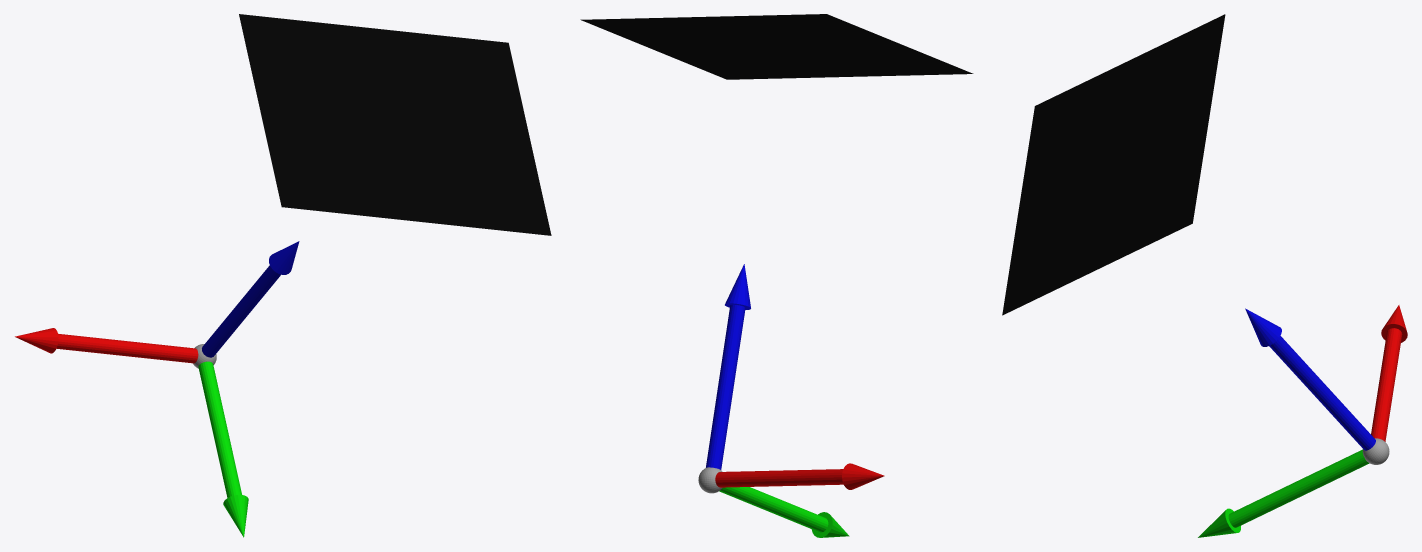
The picture shows the model from 3 angles, left to right: view 1: azimuth 30°, elevation 25°; view 2: azimuth 150°, elevation 25°; view 3: azimuth 270°, elevation 25°; orthographic projection. The views are drawn at different scales.
Size of the model in its own units: 0.2635 by 0.3269 by 0.2275.
